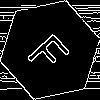F: (25, 25, 77, 78)
